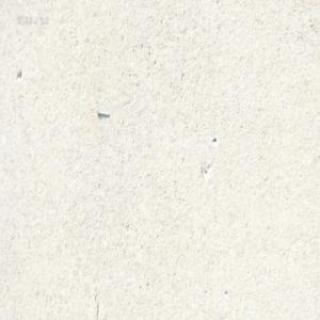Nailtrack_idkeyframe: (95, 107, 109, 116)
